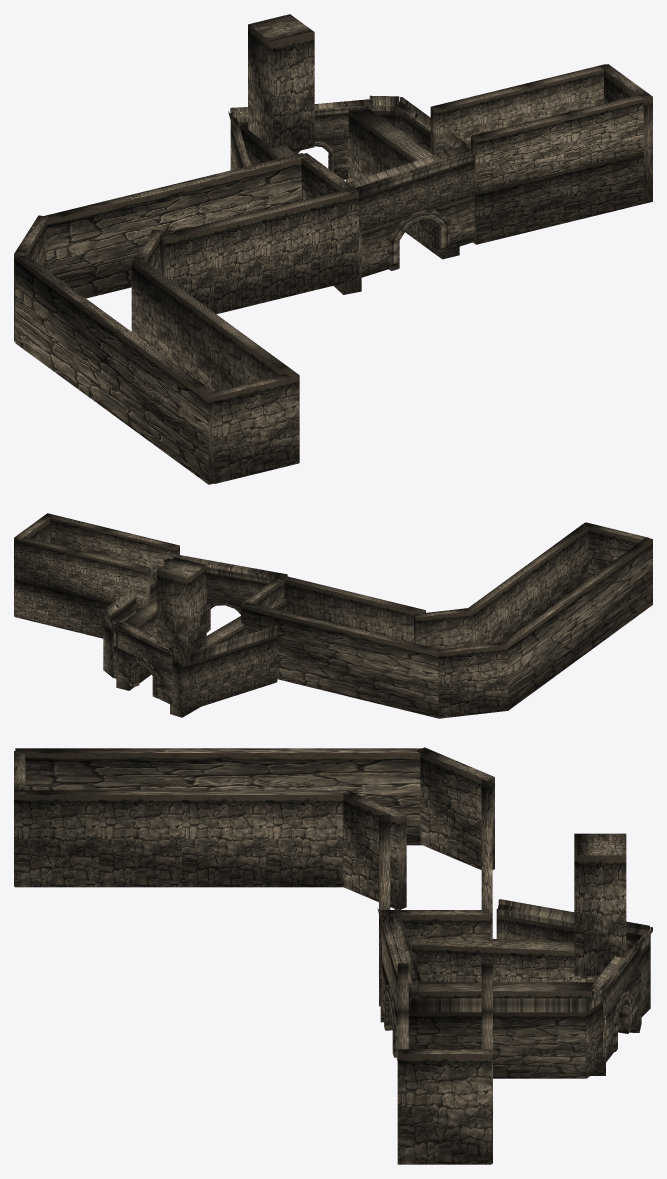
Rendered from dvorac-ostatak.fbx.
3 renders of one model, top to bottom at view 1: azimuth 30°, elevation 25°; view 2: azimuth 150°, elevation 25°; view 3: azimuth 270°, elevation 25°, orthographic. The views are drawn at different scales.
Visible parts, largest first — view 1: Cube.7, Cube.12, Cube.4, Cube.9, Cube.6, Cube.14, Cube.10, Cube.13, Zid.6, Cube.2, Ulaz zidina, Cube.11 (+11 smaller); view 2: Cube.9, Cube.7, Cube.13, Cube.6, Zid.5, Cube.8, Cube.4, Cube.14, Cube.12, Cube.5, Zid, Cube.10 (+11 smaller); view 3: Cube.6, Cube.7, Zid.7, Cube.11, Cube.14, Cube, Cube.8, Cube.5, Zid.5, Cube.2, Cube.3, Cube.9 (+10 smaller).
Boxes of the visible parts, x1,y1,x2,y2 form: Cube.7: (15, 254, 216, 484); Cube.12: (471, 95, 643, 244); Cube.4: (160, 190, 358, 314); Cube.9: (45, 153, 307, 298); Cube.6: (131, 259, 299, 462); Cube.14: (248, 14, 314, 152); Cube.10: (210, 373, 298, 483); Cube.13: (430, 64, 605, 154); Zid.6: (350, 152, 475, 231); Cube.2: (346, 105, 459, 259); Ulaz zidina: (361, 195, 474, 277); Cube.11: (599, 64, 652, 203); Cube.9: (242, 602, 439, 718); Cube.7: (503, 537, 652, 710); Cube.13: (15, 537, 150, 638); Cube.6: (466, 522, 588, 645); Zid.5: (184, 624, 278, 711); Cube.8: (436, 642, 507, 718); Cube.4: (283, 576, 425, 642); Cube.14: (156, 557, 206, 656); Cube.12: (50, 515, 179, 575); Cube.5: (414, 608, 471, 649); Zid: (164, 559, 284, 604); Cube.10: (583, 522, 649, 579); Cube.6: (15, 790, 349, 887); Cube.7: (15, 748, 421, 845); Zid.7: (408, 998, 585, 1078); Cube.11: (397, 1049, 491, 1164); Cube.14: (574, 833, 626, 976); Cube: (380, 938, 641, 1032); Cube.8: (417, 747, 494, 869); Cube.5: (342, 791, 406, 909); Zid.5: (496, 899, 649, 942); Cube.2: (412, 982, 605, 1075); Cube.3: (381, 910, 490, 941); Cube.9: (481, 779, 492, 939).
Bounding box in the file's own units: 1472 × 406 × 1236.
1 material, 1 textured.
